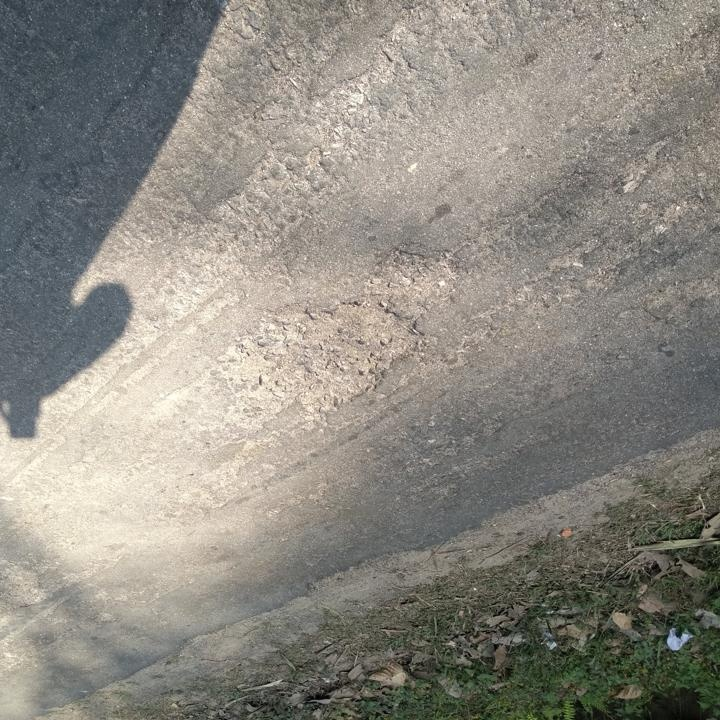pothole: (221, 298, 432, 424), (361, 241, 459, 300)
